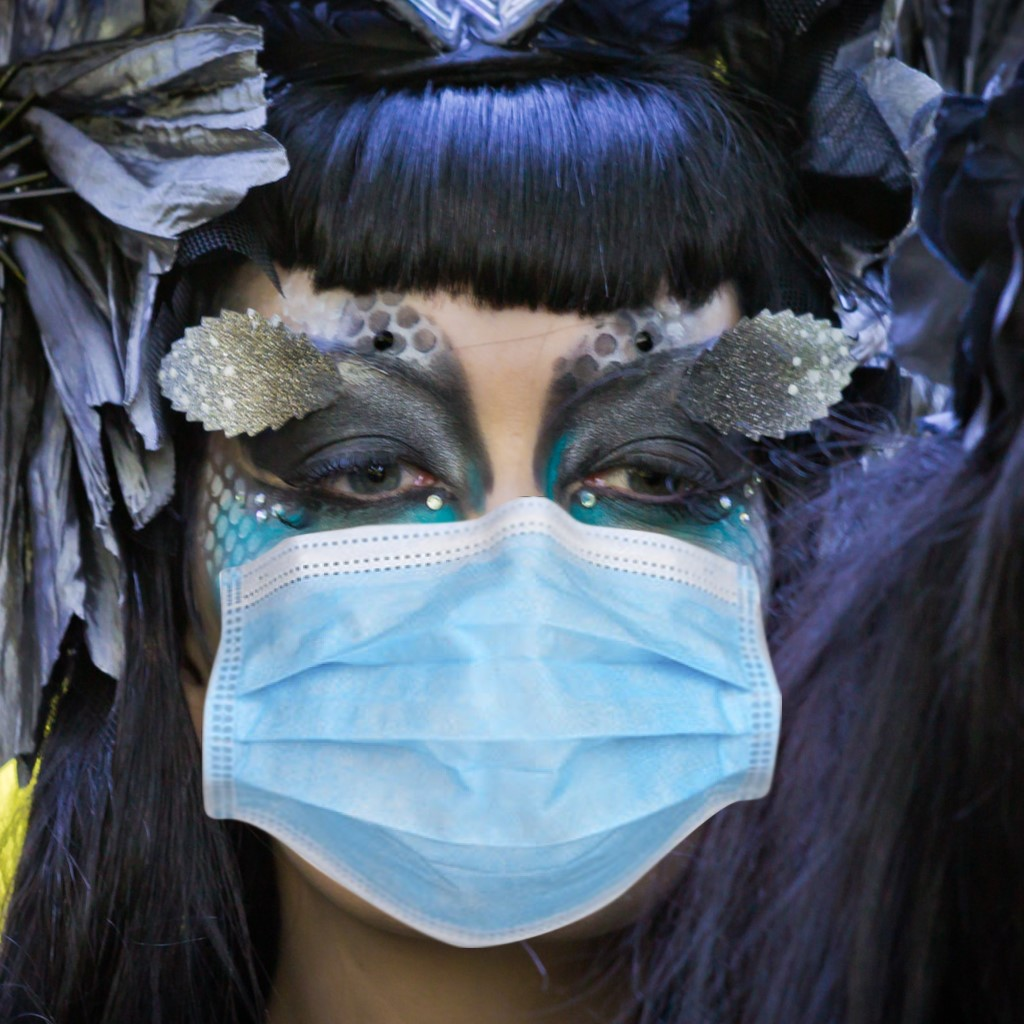con_mascara: (196, 235, 783, 963)
